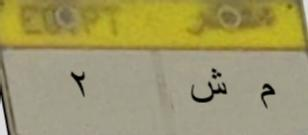2: (68, 62, 90, 104)
meem: (250, 73, 281, 118)
sheen: (187, 65, 231, 112)
